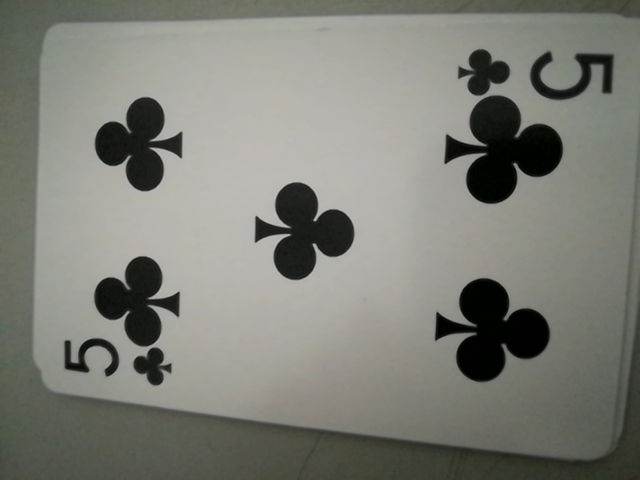mh 5: (454, 41, 612, 102), (55, 332, 178, 395)
